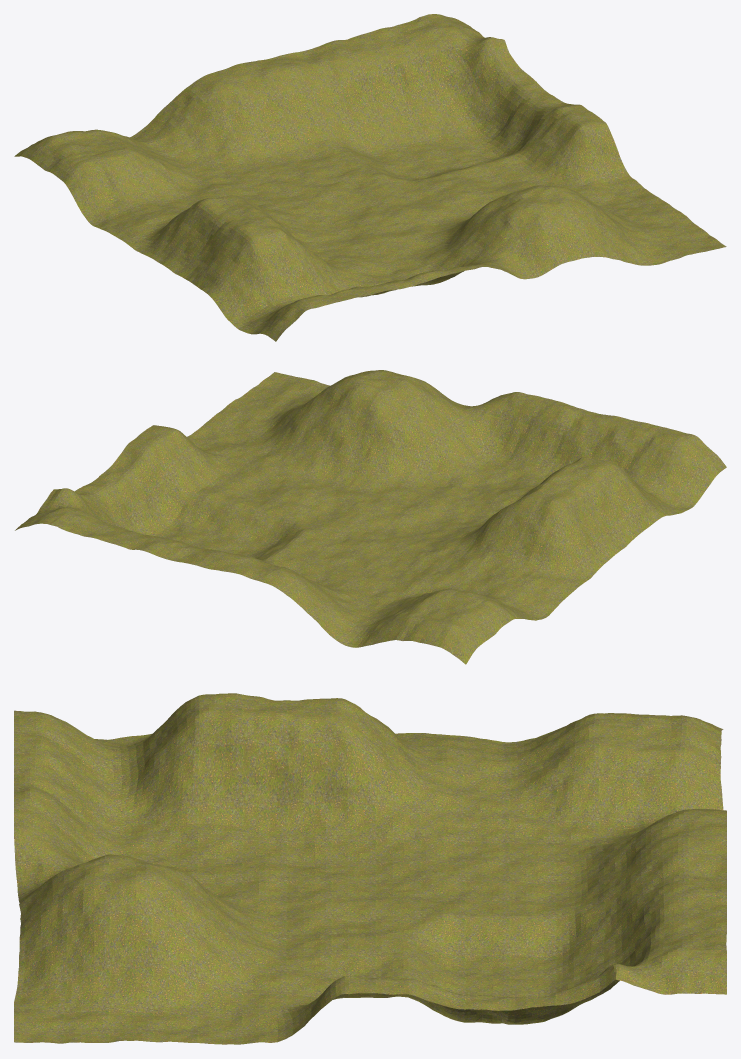
The model's file is ground.obj.
3 views of the same model, one above another, from view 1: azimuth 30°, elevation 25°; view 2: azimuth 150°, elevation 25°; view 3: azimuth 270°, elevation 25° (orthographic). The views are drawn at different scales.
Visible parts, largest first — view 1: Plane; view 2: Plane; view 3: Plane.
Part boxes in pixels (x1,y1,x2,y2): Plane: [14, 14, 726, 341]; Plane: [15, 370, 726, 664]; Plane: [14, 693, 726, 1044].
Bounding box in the file's own units: 1599 × 259 × 1600.
